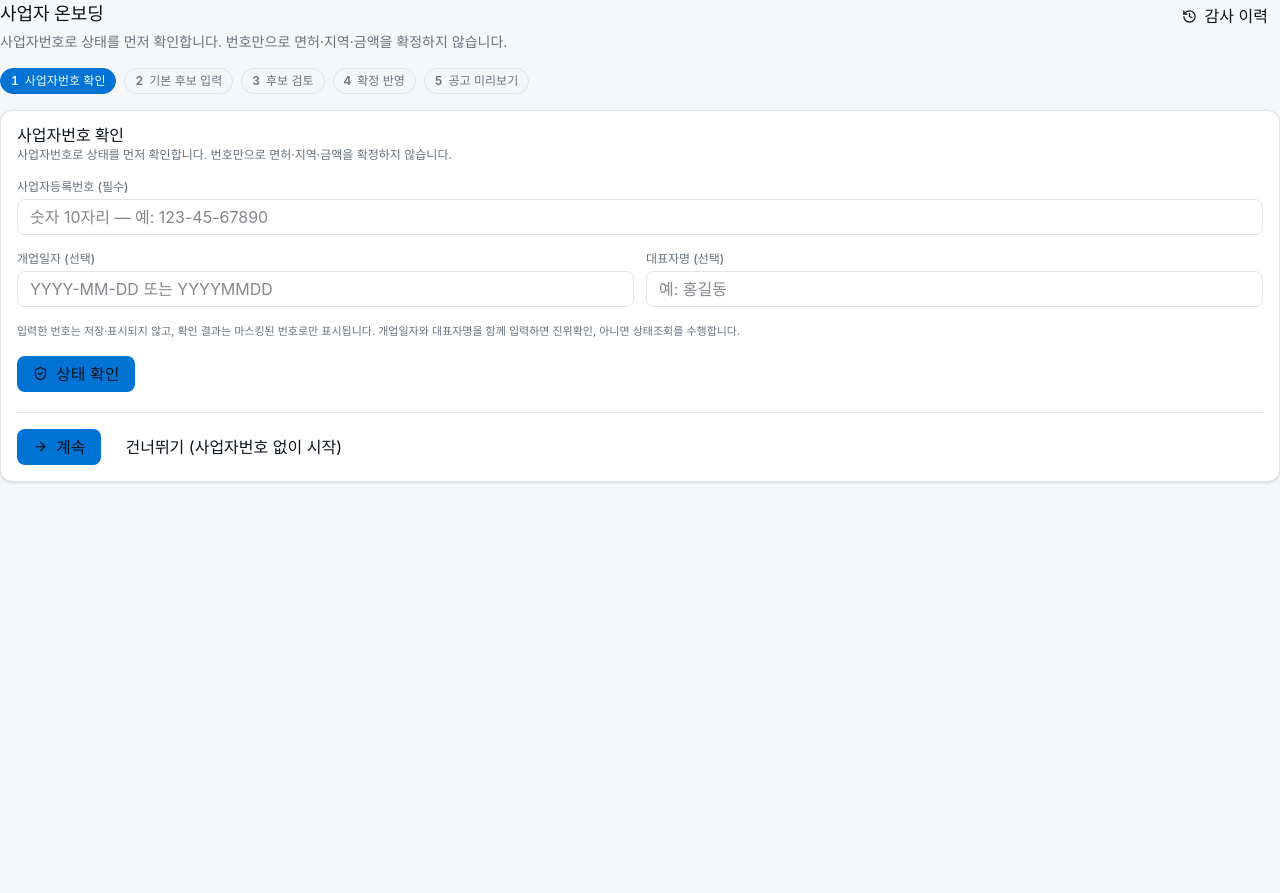
Test: OnboardingWizard › seed 제출 후 후보를 렌더하고 provenance(신뢰도·근거·사유)를 노출한다
Click the button "건너뛰기 (사업자번호 없이 시작)" at (234, 446), box [110, 428, 358, 464]
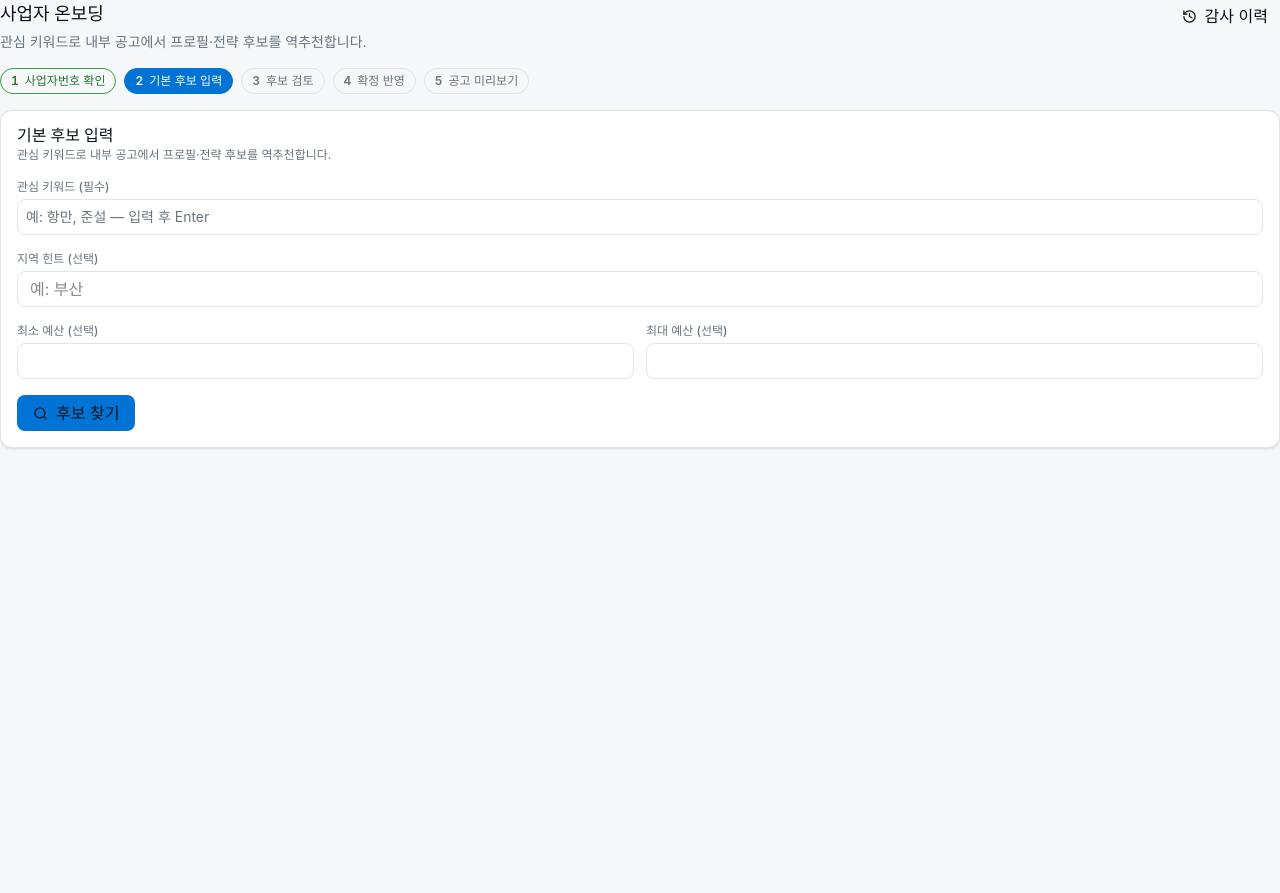
Type "항만" into the field labelled "관심 키워드 (필수)" at (640, 217), box [26, 207, 1254, 227]
Then press Enter
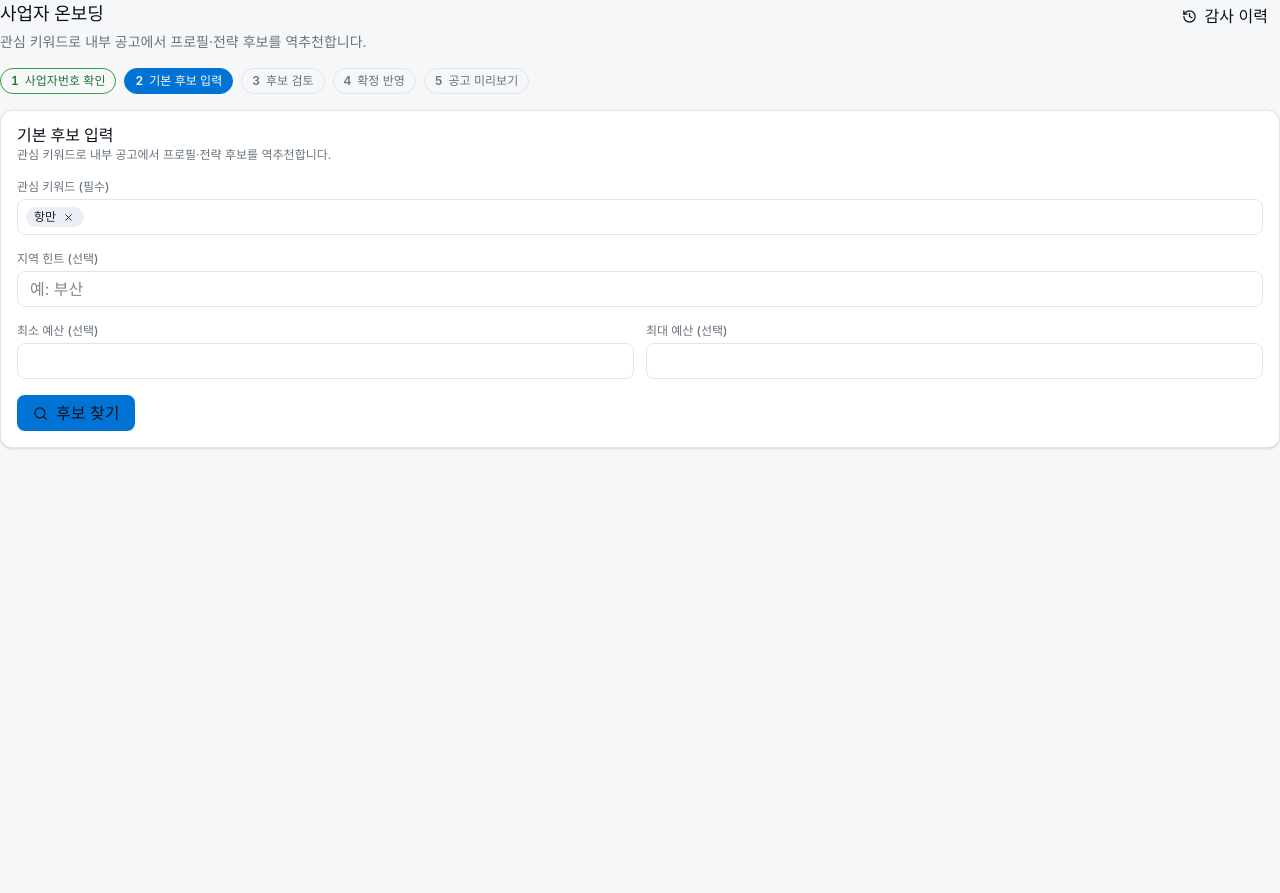
Click the button "후보 찾기" at (76, 413), box [17, 395, 135, 431]
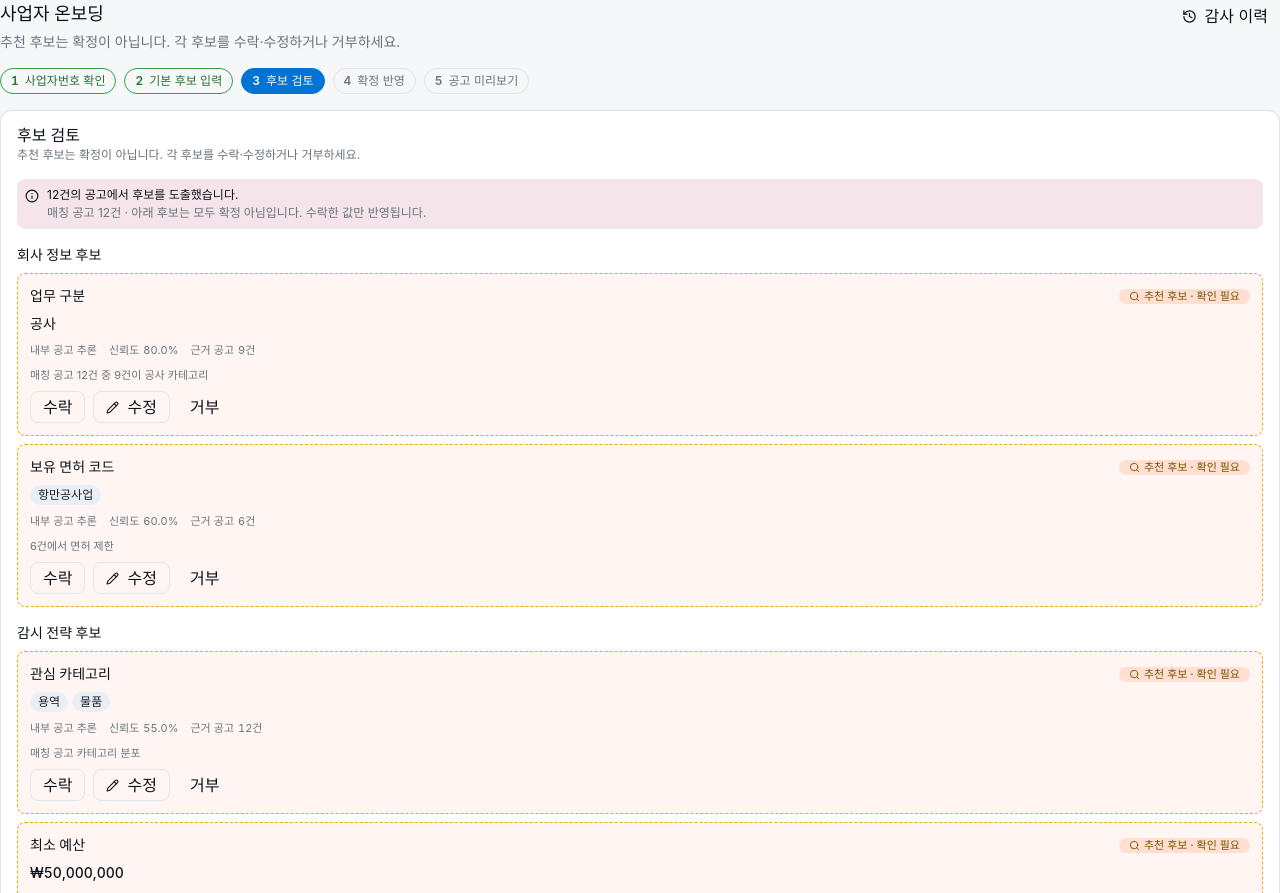
Check: the text "공사" is shown, box [30, 315, 56, 332]
Check: the list item "용역" is shown, box [30, 692, 68, 712]
Check: the list item "물품" is shown, box [72, 692, 110, 712]
